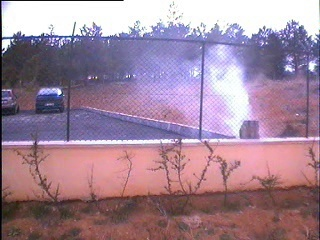smoke: (152, 46, 272, 140)
